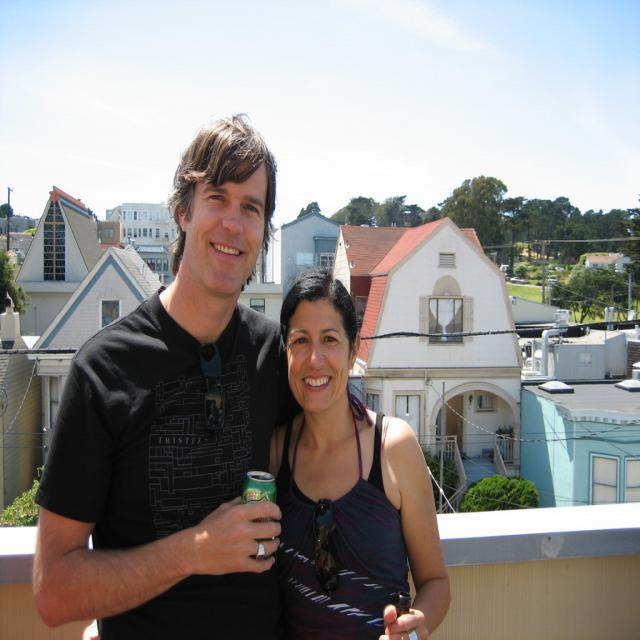closed-mouth: (210, 239, 246, 258)
